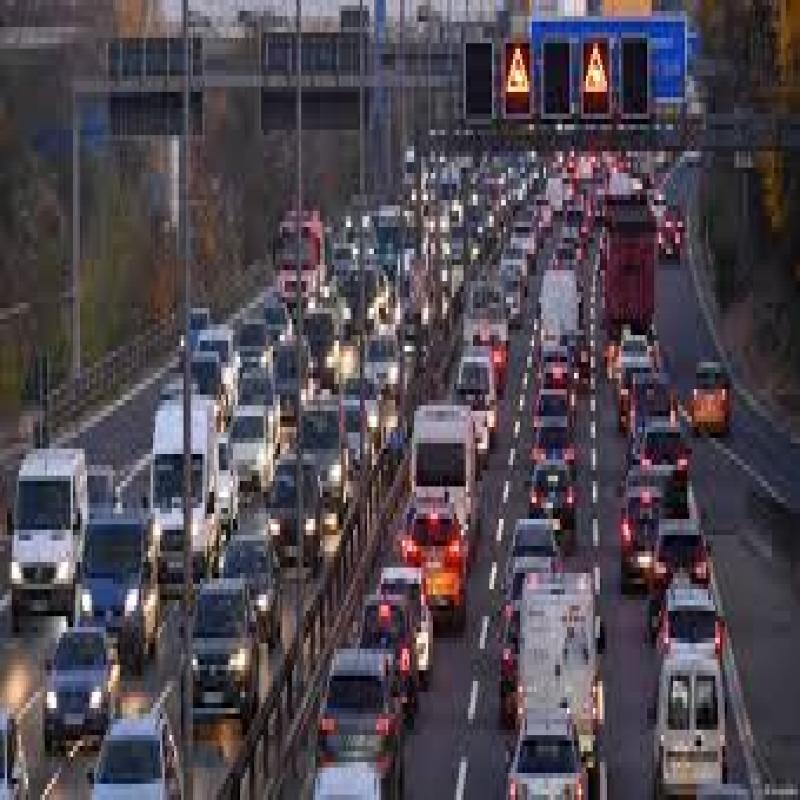car: (85, 514, 165, 694), (312, 651, 406, 800), (0, 421, 83, 579), (270, 442, 345, 582), (178, 586, 258, 712), (357, 588, 424, 738), (87, 724, 185, 800), (514, 709, 594, 800), (296, 375, 343, 516), (54, 609, 122, 706), (387, 545, 434, 683), (224, 408, 276, 524), (226, 522, 276, 635), (416, 495, 466, 607), (534, 371, 586, 465), (507, 504, 554, 607), (453, 338, 502, 422), (529, 448, 570, 546)
